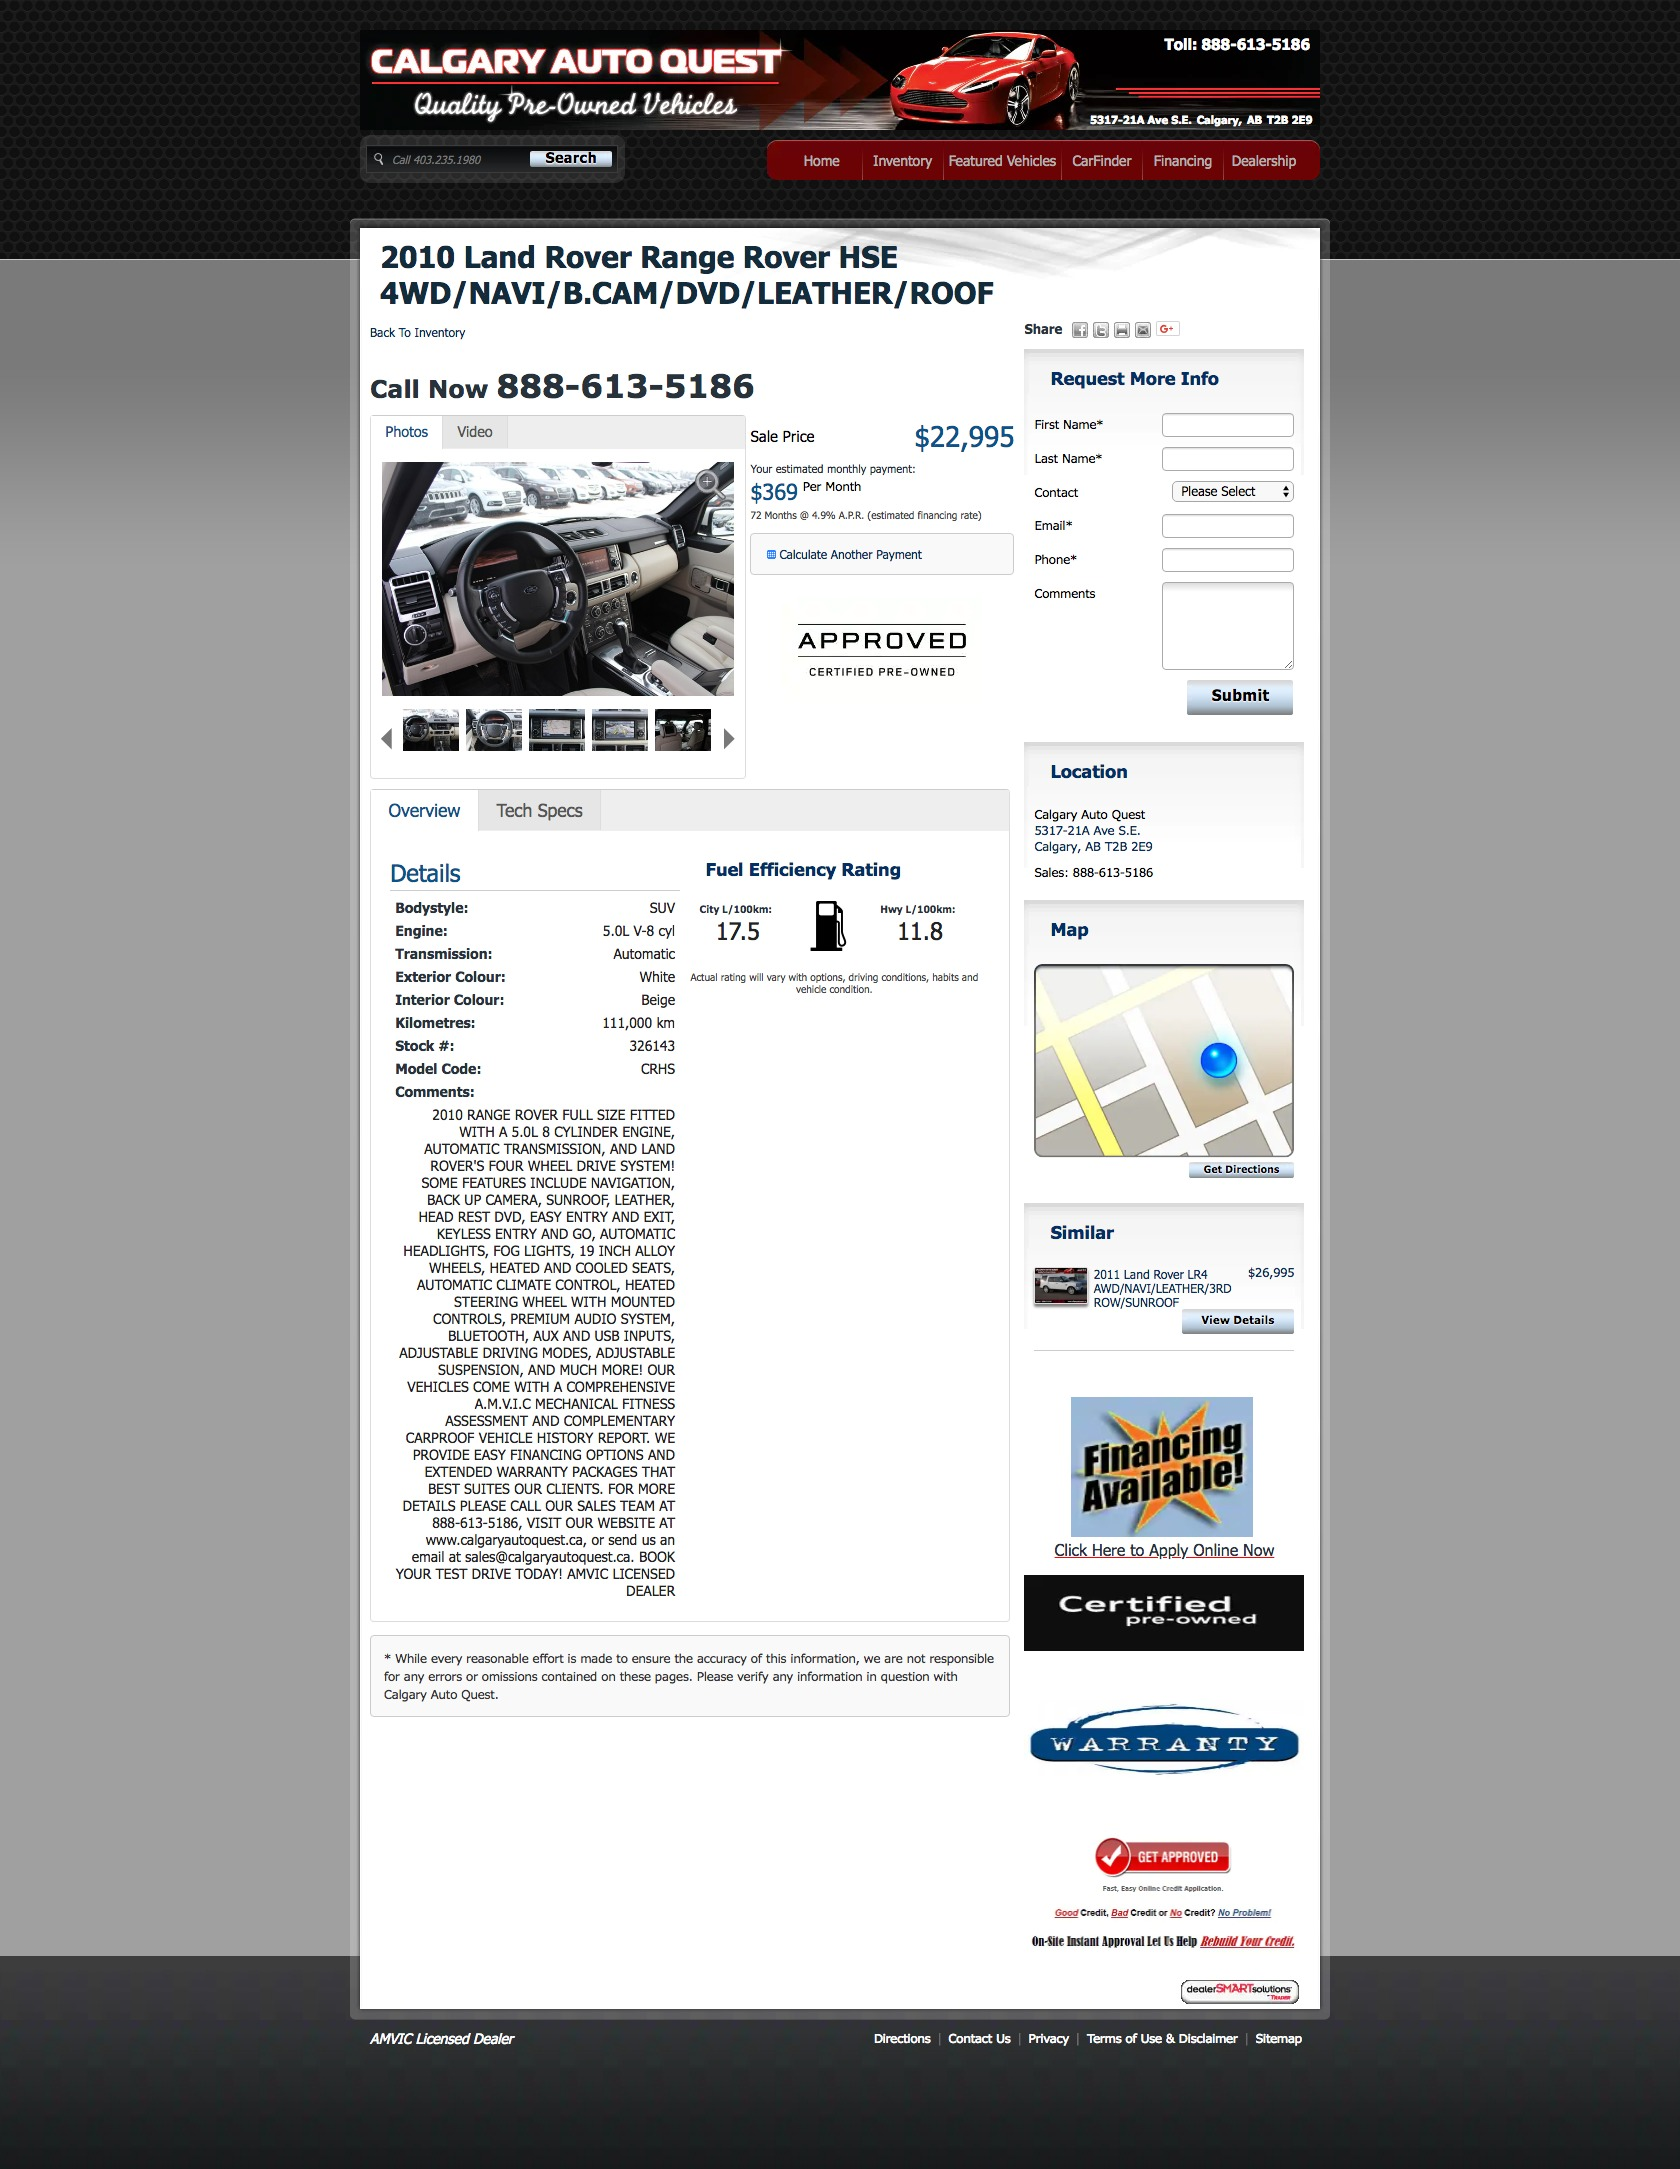car: (722, 729, 738, 752)
